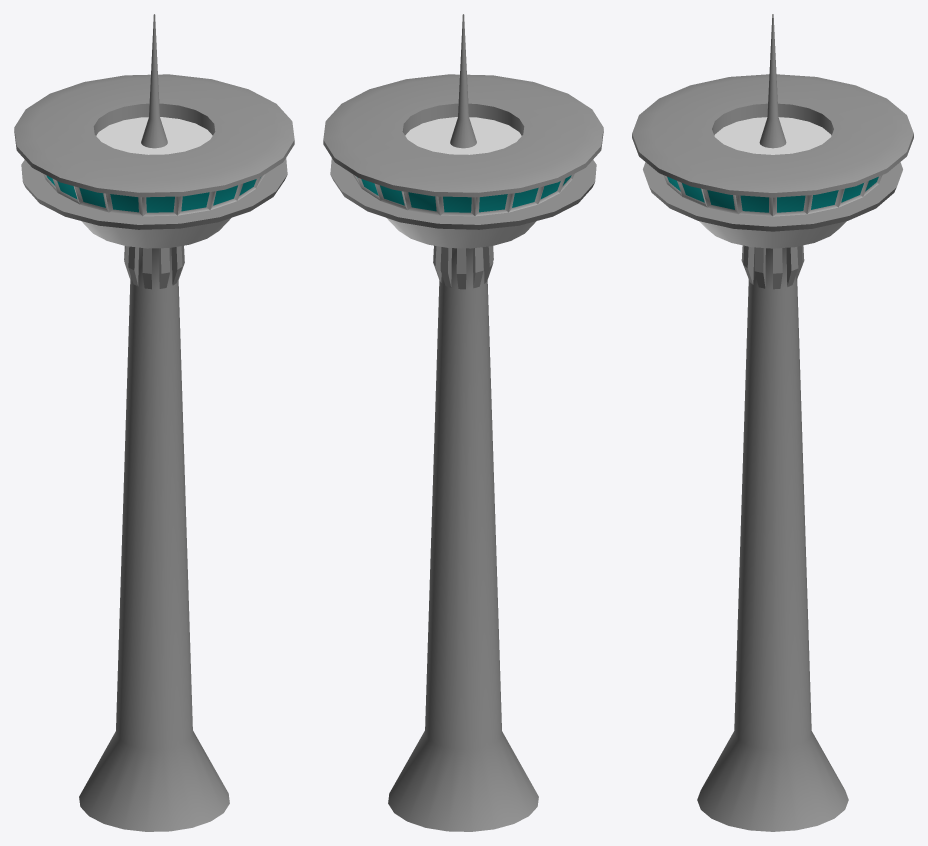
Rendered from sky .fbx.
3 views of the same model, side by side, from view 1: azimuth 30°, elevation 25°; view 2: azimuth 150°, elevation 25°; view 3: azimuth 270°, elevation 25° (orthographic).
Parts seen in each view (by area): view 1: pCylinder8, polySurface1, polySurface2; view 2: pCylinder8, polySurface1, polySurface2; view 3: pCylinder8, polySurface1, polySurface2.
Part boxes in pixels (left/top/right/bottom): pCylinder8: left=79, top=245, right=229, bottom=831; polySurface1: left=14, top=74, right=294, bottom=248; polySurface2: left=141, top=14, right=167, bottom=148; pCylinder8: left=388, top=245, right=538, bottom=831; polySurface1: left=323, top=74, right=603, bottom=248; polySurface2: left=450, top=14, right=476, bottom=148; pCylinder8: left=697, top=245, right=848, bottom=831; polySurface1: left=632, top=74, right=913, bottom=248; polySurface2: left=759, top=14, right=786, bottom=148.
Bounding box in the file's own units: 6.99 × 21.51 × 6.99.
